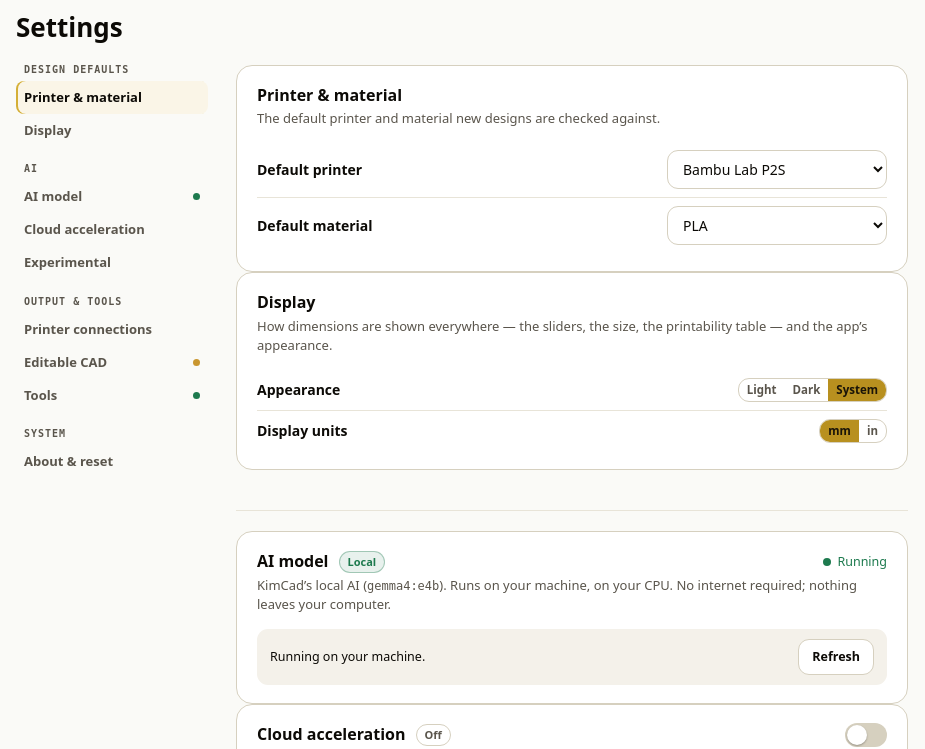
Scenario: SettingsPanel › reports an honest error when the store could not persist (saved:false)
Select "PETG" in the dropdown labelled "Default material" at (777, 226), box 667,206 -> 887,245
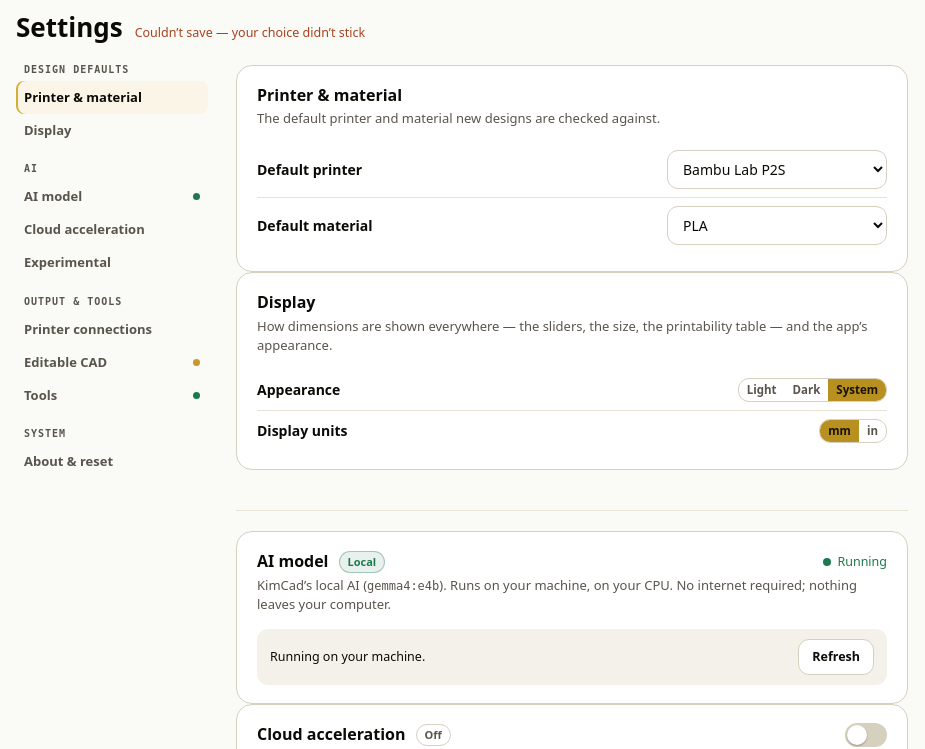
Check: the text "Couldn’t save — your choice didn’t stick" is shown, box 135,24 -> 365,42
